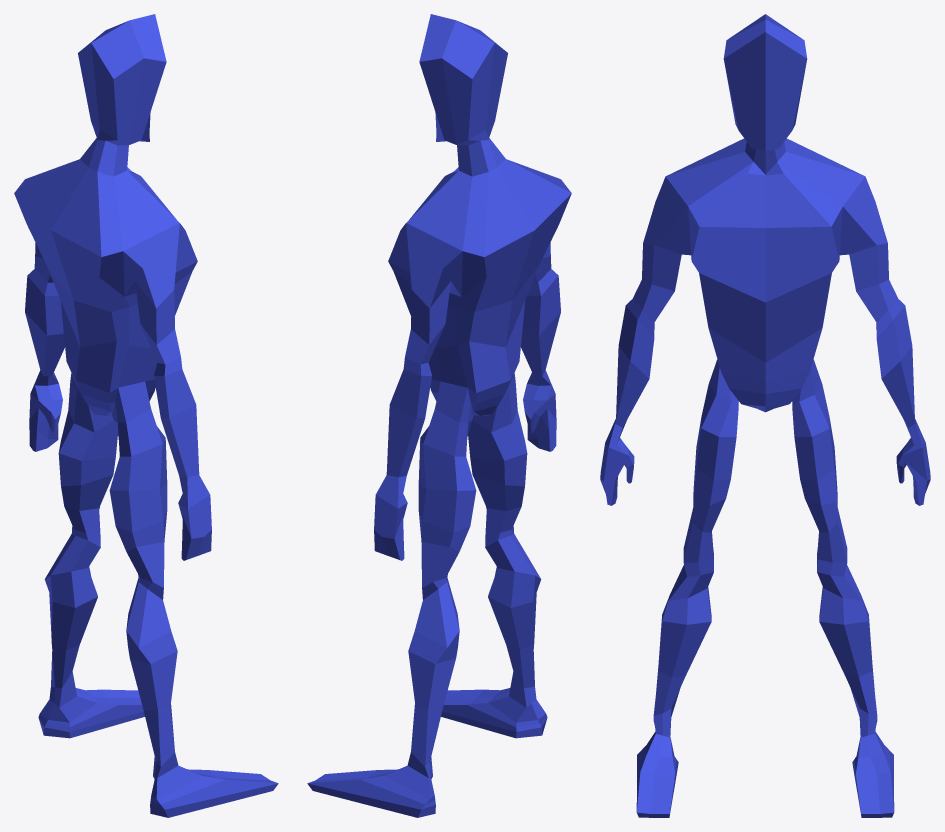
Rendered from pose.fbx.
3 views of the same model, side by side, from view 1: azimuth 30°, elevation 25°; view 2: azimuth 150°, elevation 25°; view 3: azimuth 270°, elevation 25° (orthographic).
Visible parts, largest first — view 1: Plane.003; view 2: Plane.003; view 3: Plane.003.
Boxes of the visible parts, box(x1,y1,x2,y2) form: Plane.003: box(14, 14, 278, 817); Plane.003: box(307, 14, 571, 817); Plane.003: box(600, 14, 930, 817).
Size of the model in its own units: 869 by 3769 by 1487.
